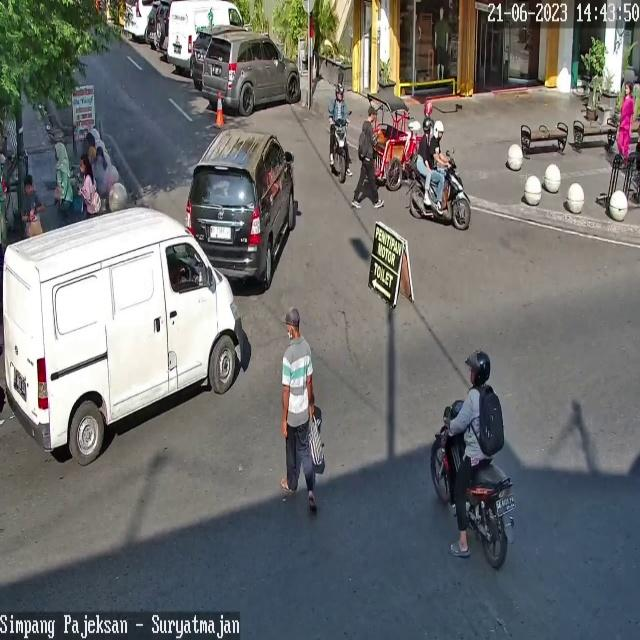bus: (431, 398, 515, 569), (406, 156, 469, 230), (331, 116, 351, 182)
motorcycle: (2, 207, 254, 466), (186, 128, 296, 285), (201, 30, 301, 116), (166, 0, 244, 66), (123, 0, 153, 38), (191, 27, 211, 83)
